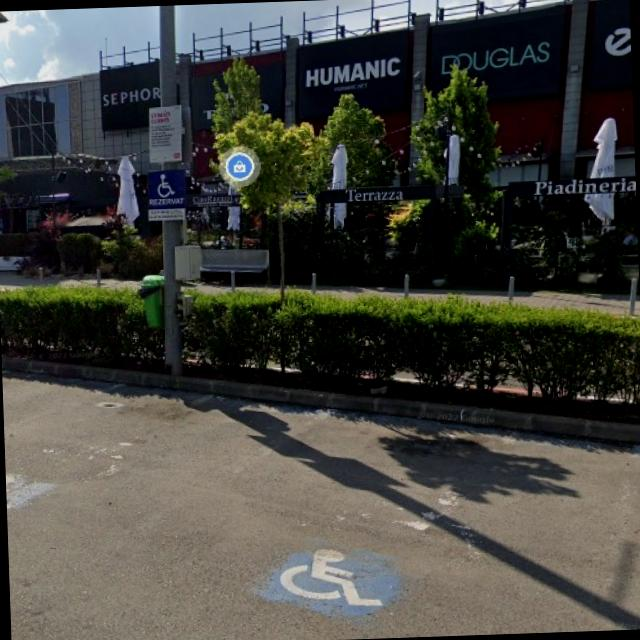symbol_of_access: (148, 169, 185, 200)
